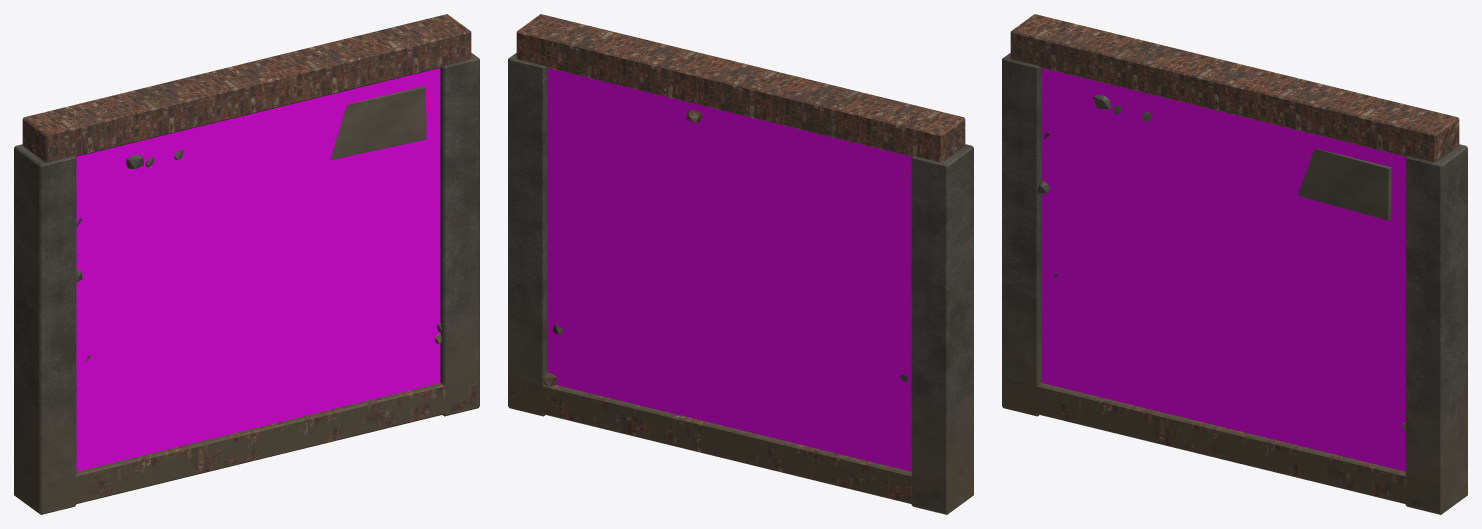
File: prop_barricade_wall_breach.glb
3 views of the same model, side by side, from view 1: azimuth 30°, elevation 25°; view 2: azimuth 150°, elevation 25°; view 3: azimuth 330°, elevation 25° (orthographic).
Visible parts, largest first — view 1: prop_barricade_wall_breach-col, Frame, Board_06; view 2: prop_barricade_wall_breach-col, Frame; view 3: prop_barricade_wall_breach-col, Frame, Board_06.
Part boxes in pixels (x1=…): prop_barricade_wall_breach-col: x1=76, y1=68, x2=440, y2=471; Frame: x1=14, y1=14, x2=479, y2=514; Board_06: x1=330, y1=86, x2=426, y2=159; prop_barricade_wall_breach-col: x1=547, y1=68, x2=911, y2=471; Frame: x1=508, y1=14, x2=973, y2=514; prop_barricade_wall_breach-col: x1=1041, y1=68, x2=1405, y2=471; Frame: x1=1002, y1=14, x2=1467, y2=514; Board_06: x1=1297, y1=148, x2=1391, y2=220.
Size of the model in its own units: 3 by 2.49 by 0.3224.
3 materials, 2 textured.
